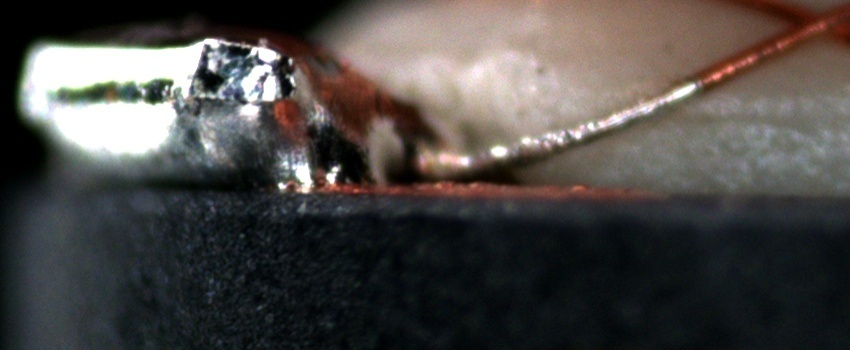CL: (768, 0, 843, 47)
DL: (627, 82, 850, 146)
TS: (422, 80, 703, 176)
